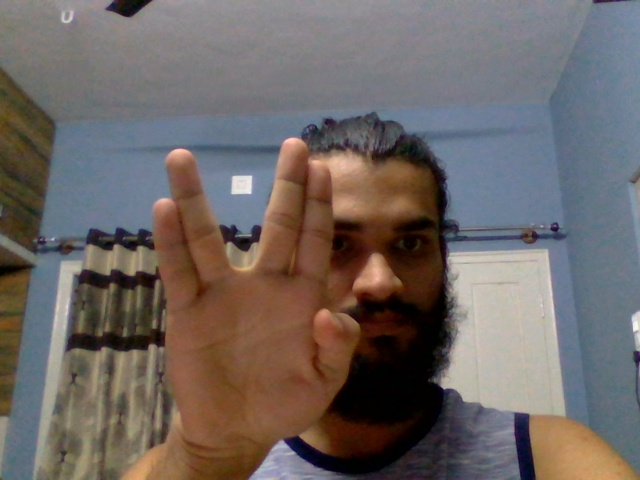LiveLong: (150, 136, 359, 445)
